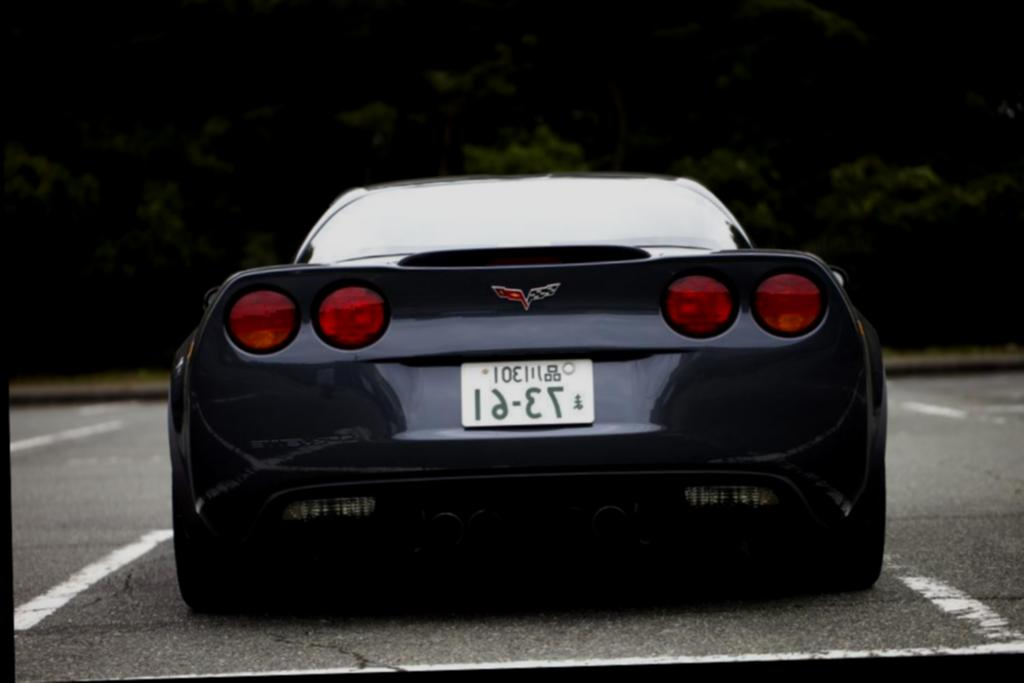License_Plate: (458, 357, 599, 430)
